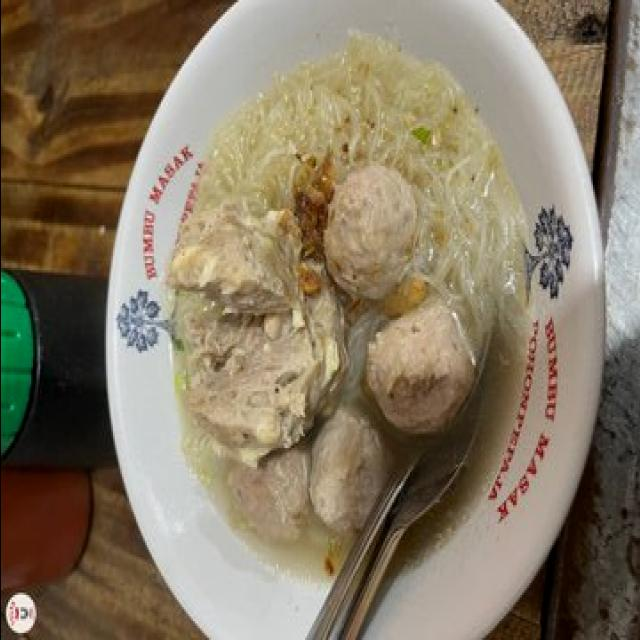bakso: (117, 28, 532, 590)
